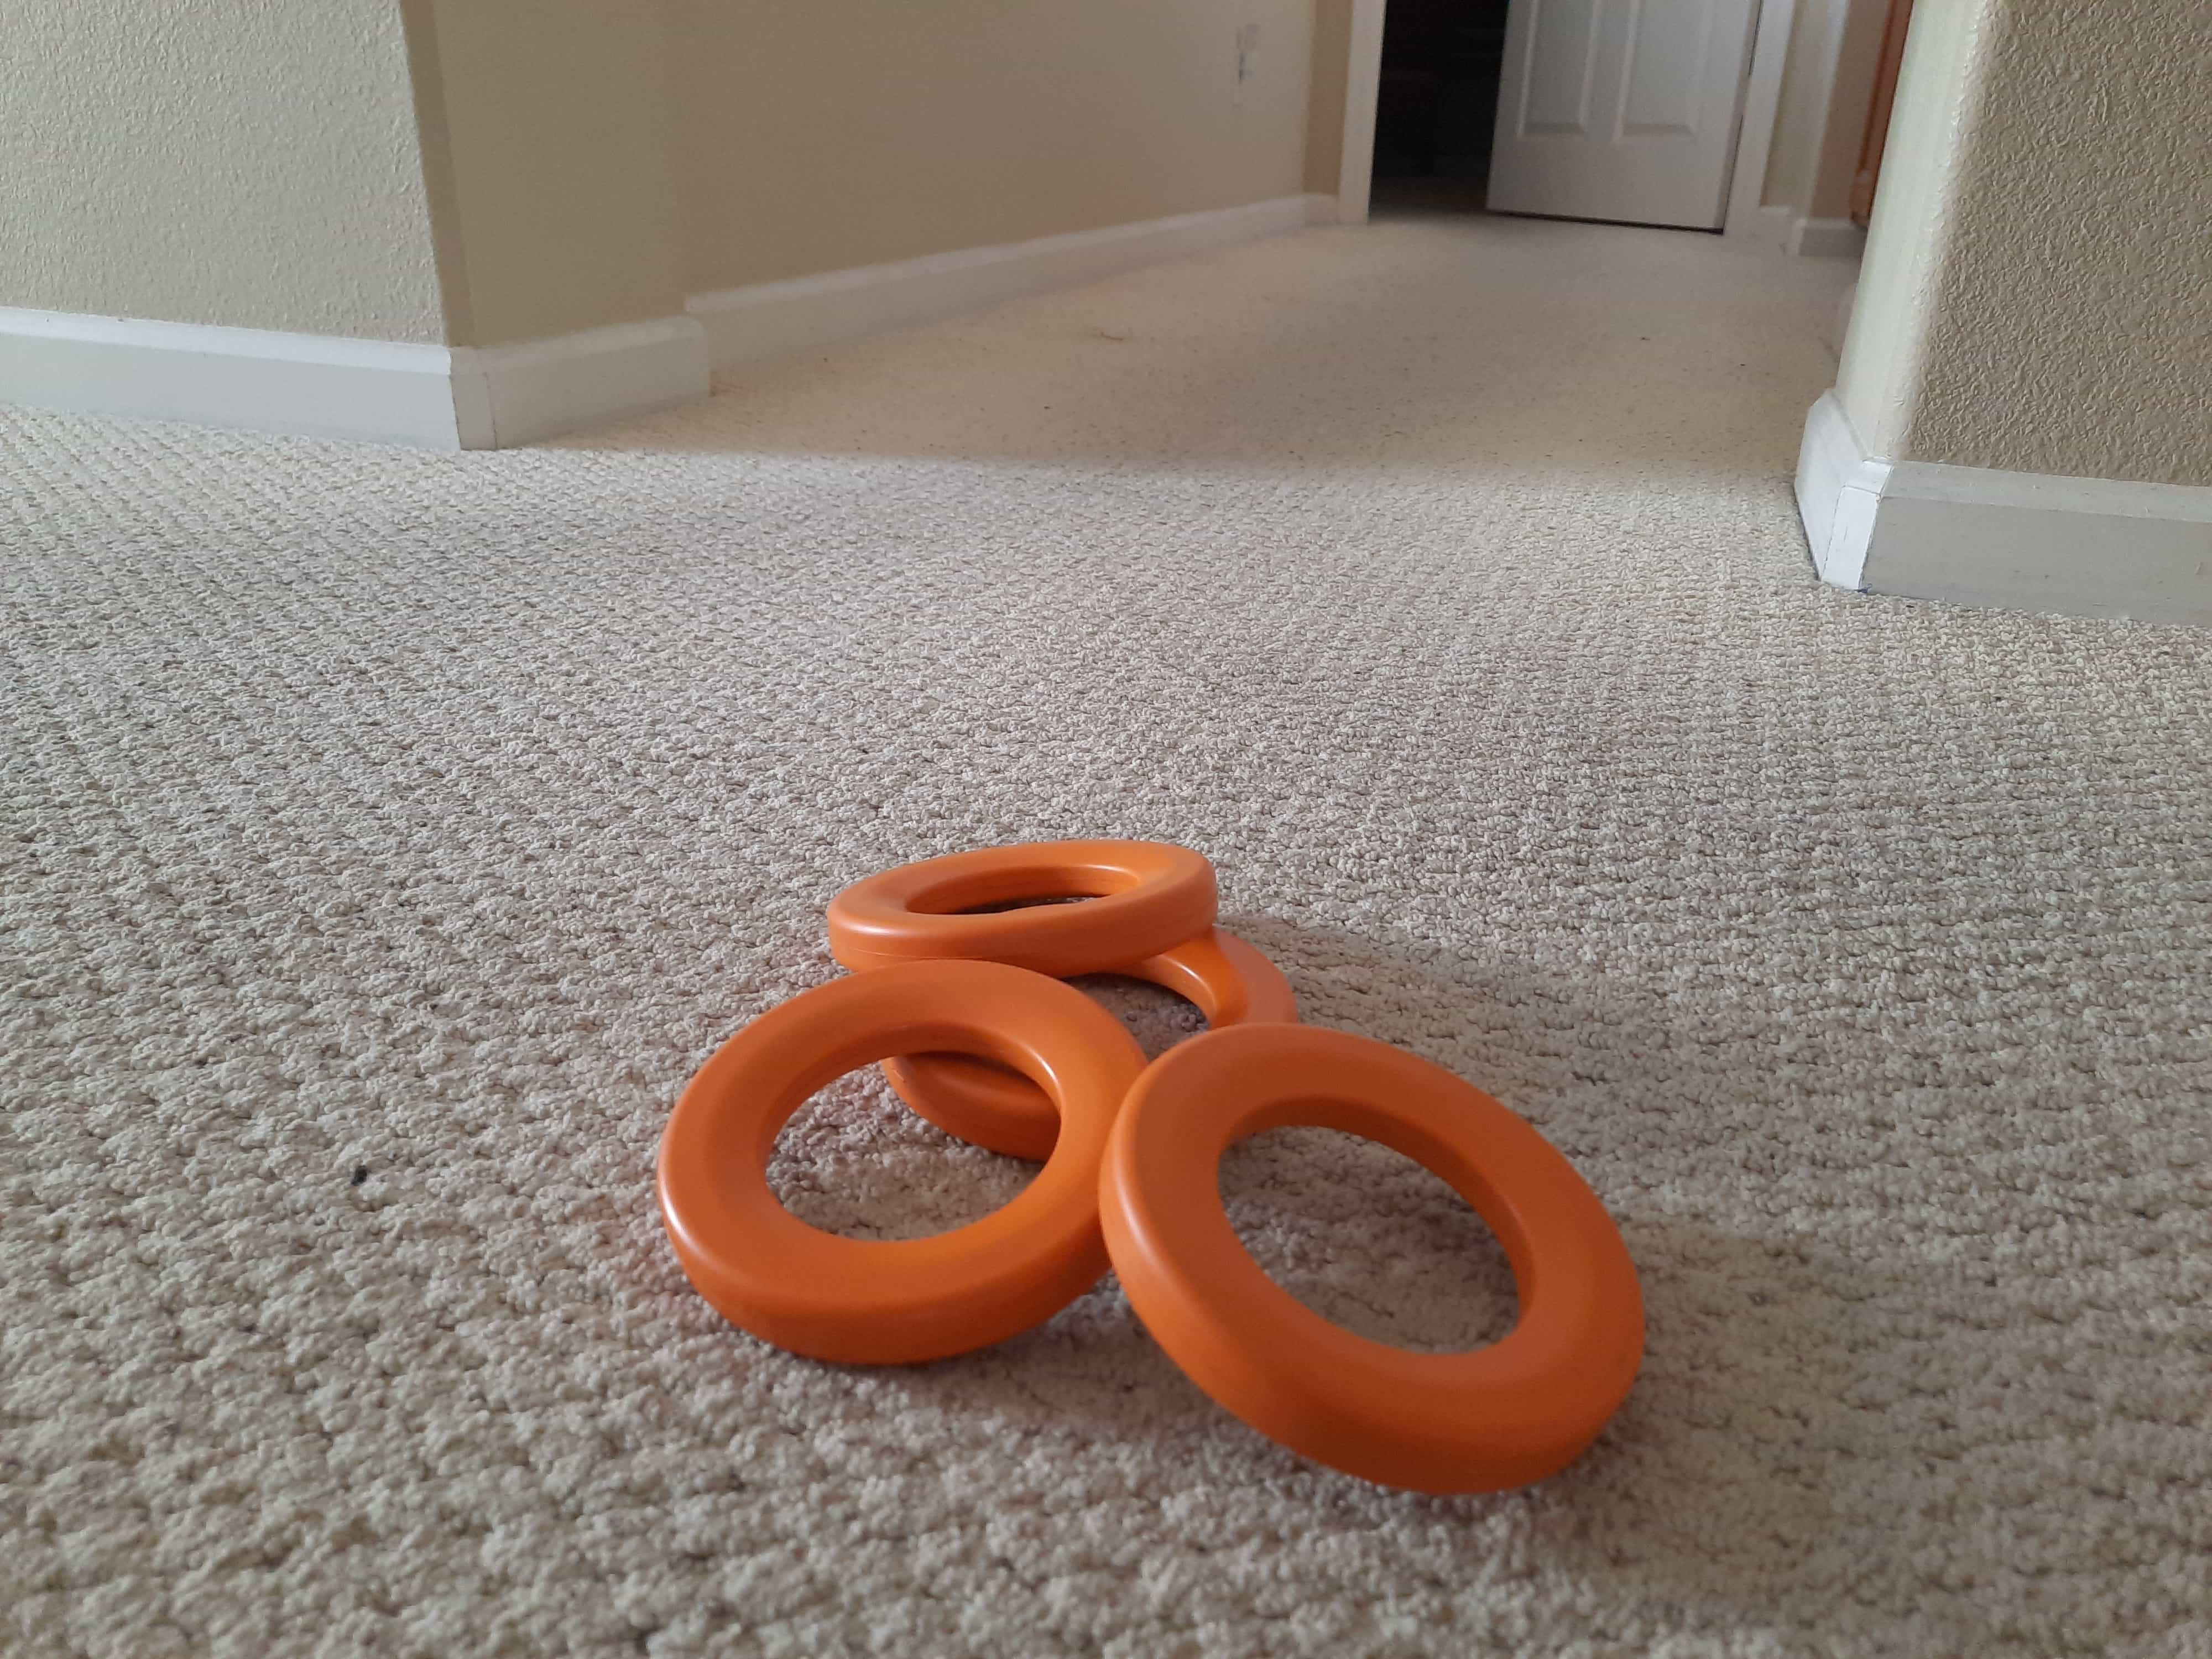OneStack: (1150, 1002, 1648, 1511), (643, 969, 1136, 1333), (927, 957, 1292, 1161), (834, 845, 1216, 962)
